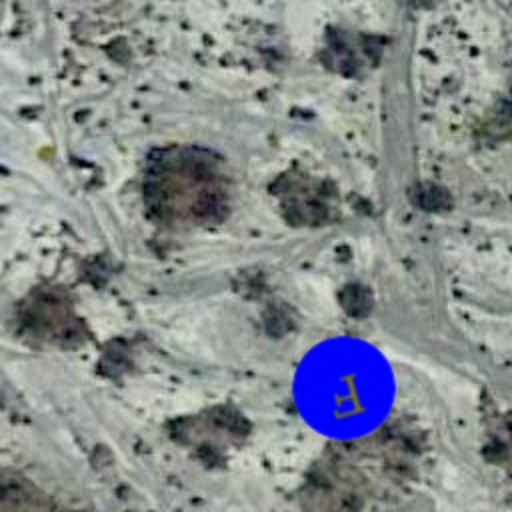circle: (278, 322, 410, 454)
